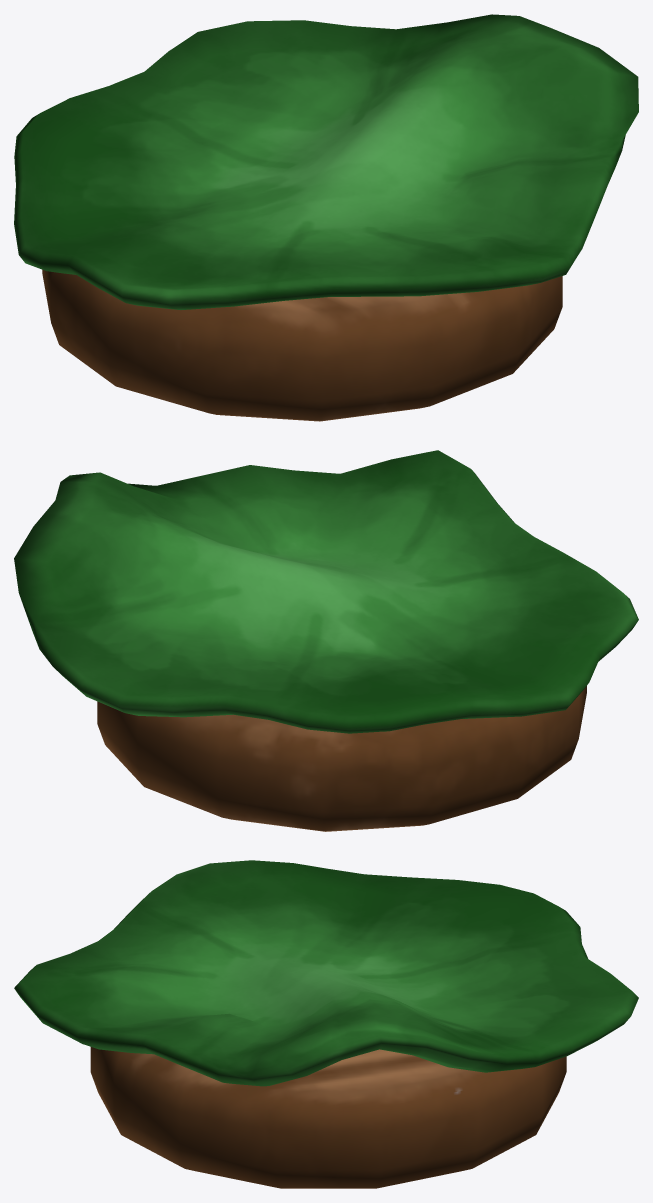
Rendered from MSH_C_L.fbx.
The picture shows the model from 3 angles, top to bottom: view 1: azimuth 30°, elevation 25°; view 2: azimuth 150°, elevation 25°; view 3: azimuth 270°, elevation 25°; orthographic projection. The views are drawn at different scales.
Parts seen in each view (by area): view 1: MSH_C_L; view 2: MSH_C_L; view 3: MSH_C_L.
Boxes of the visible parts, x1,y1,x2,y2 form: MSH_C_L: (14, 14, 638, 421); MSH_C_L: (14, 450, 638, 831); MSH_C_L: (14, 860, 638, 1188).
Bounding box in the file's own units: 16.25 × 16.87 × 5.63.
Materials: 1 (1 with a texture image).
